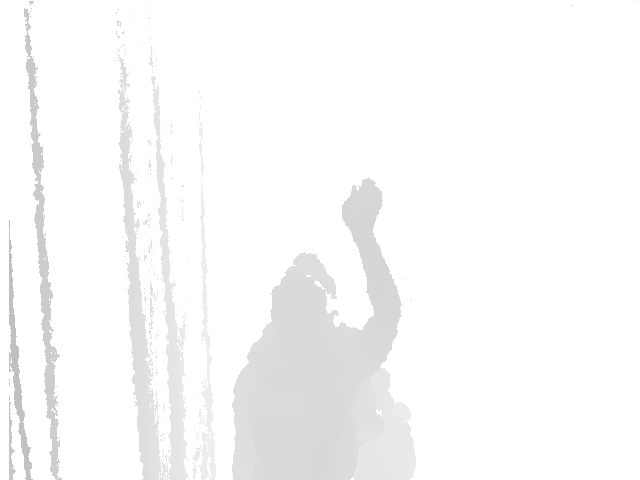hand: (341, 175, 385, 241)
head: (268, 251, 335, 345)
person: (232, 174, 404, 480)
